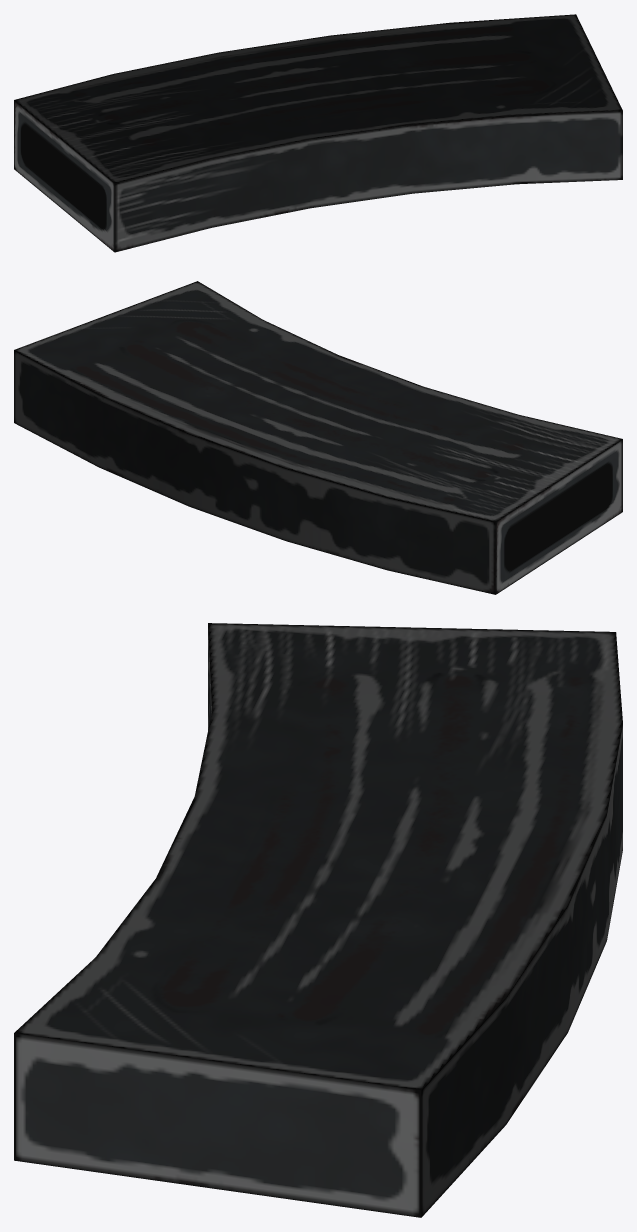
Rendered from FAMAS_Mag.fbx.
The picture shows the model from 3 angles, top to bottom: view 1: azimuth 30°, elevation 25°; view 2: azimuth 150°, elevation 25°; view 3: azimuth 270°, elevation 25°; orthographic projection. The views are drawn at different scales.
Visible parts, largest first — view 1: FAMAS_Mag; view 2: FAMAS_Mag; view 3: FAMAS_Mag.
Boxes of the visible parts, x1=… form: FAMAS_Mag: x1=14, y1=14, x2=622, y2=252; FAMAS_Mag: x1=14, y1=281, x2=622, y2=594; FAMAS_Mag: x1=14, y1=623, x2=622, y2=1217.
Bounding box in the file's own units: 187 × 23.77 × 103.
